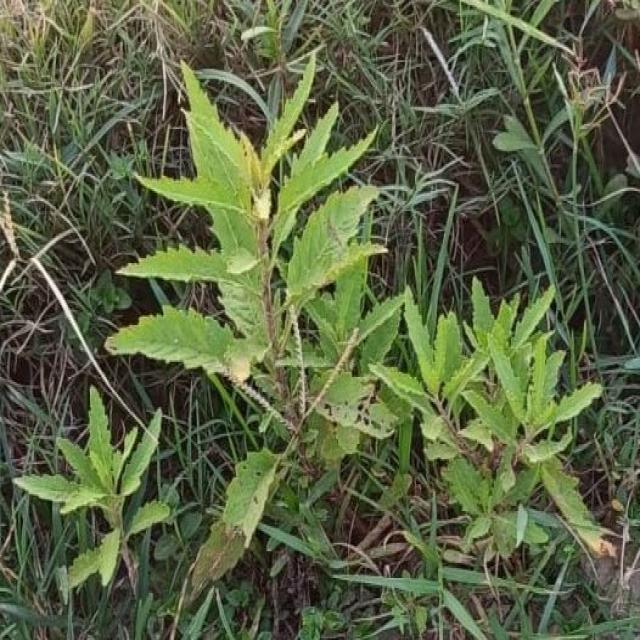weed: (106, 59, 616, 626), (15, 390, 170, 592)
